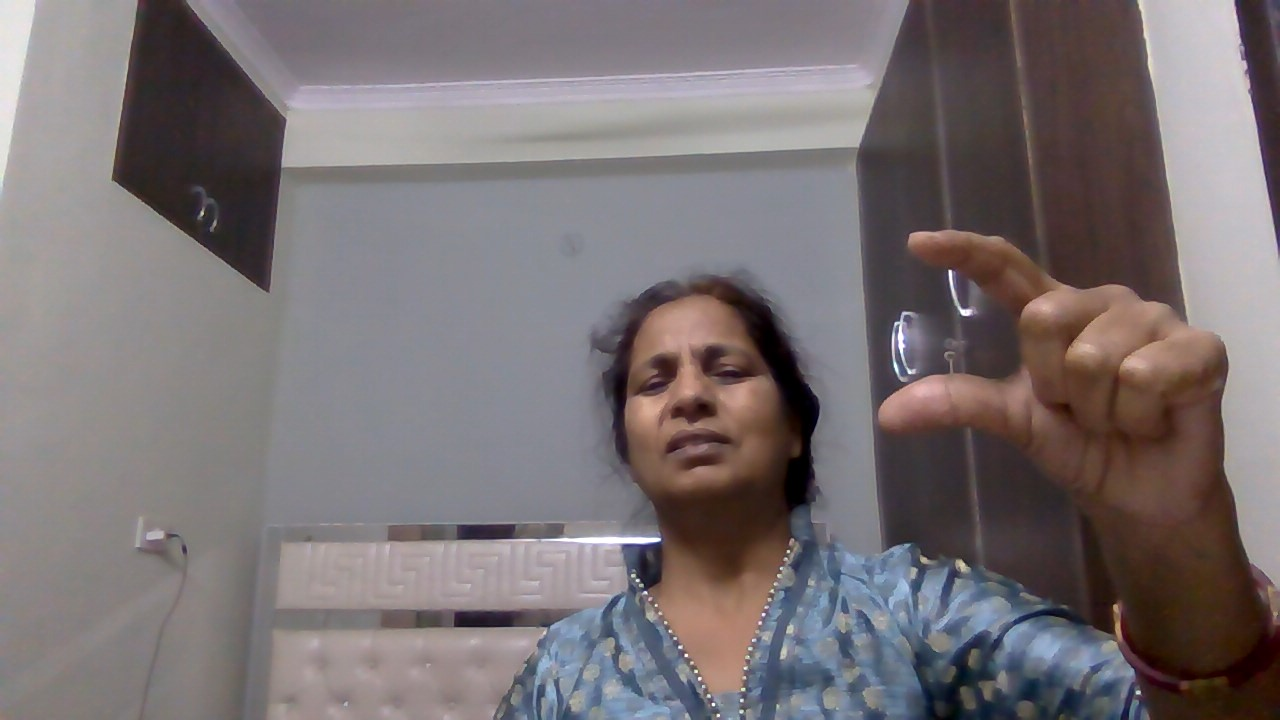Paste: (866, 212, 1242, 541)
